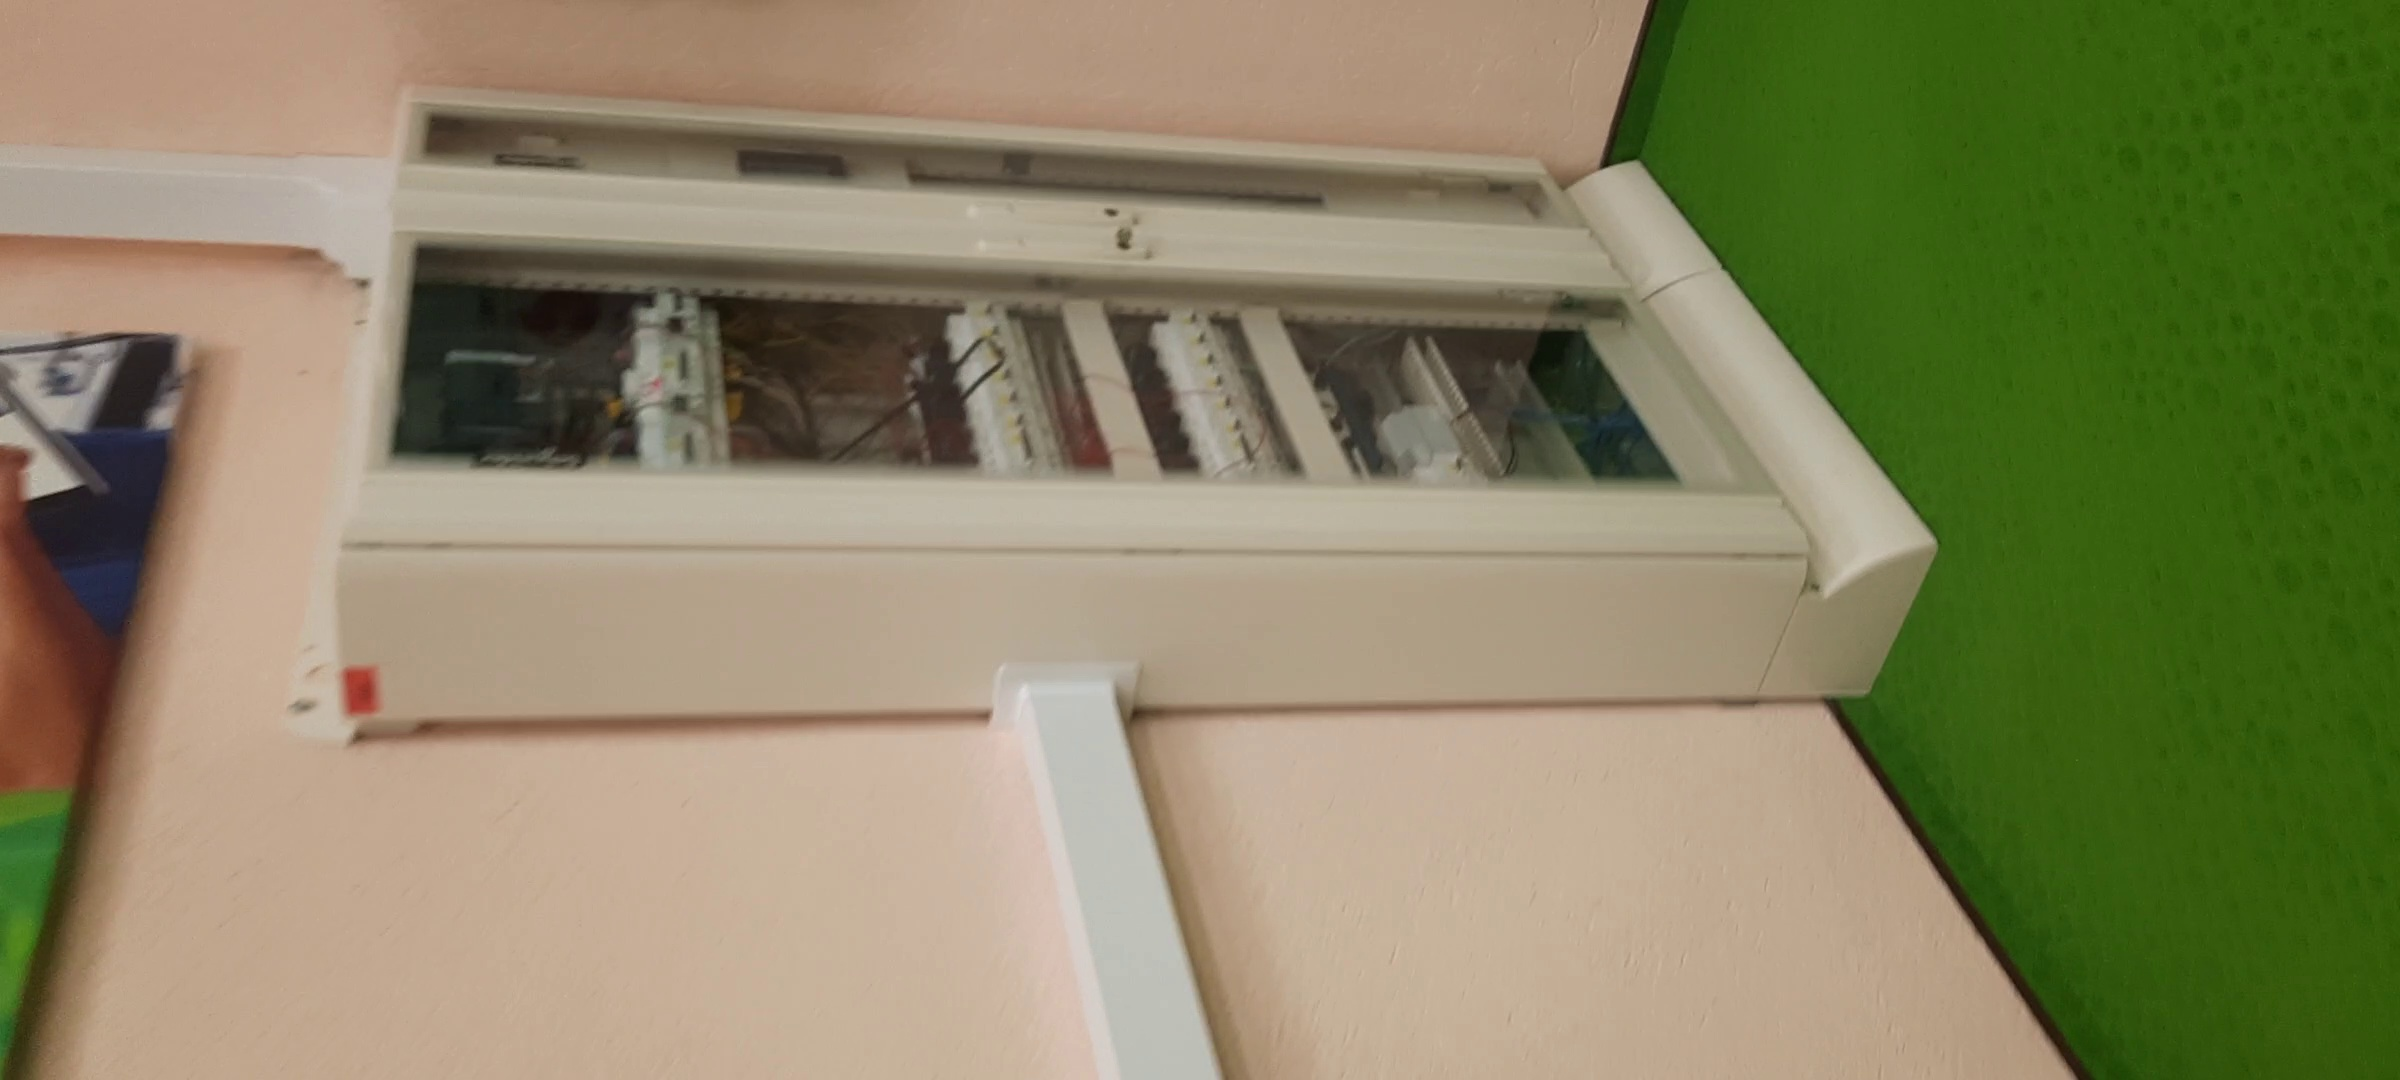stand1: (328, 96, 1870, 704)
